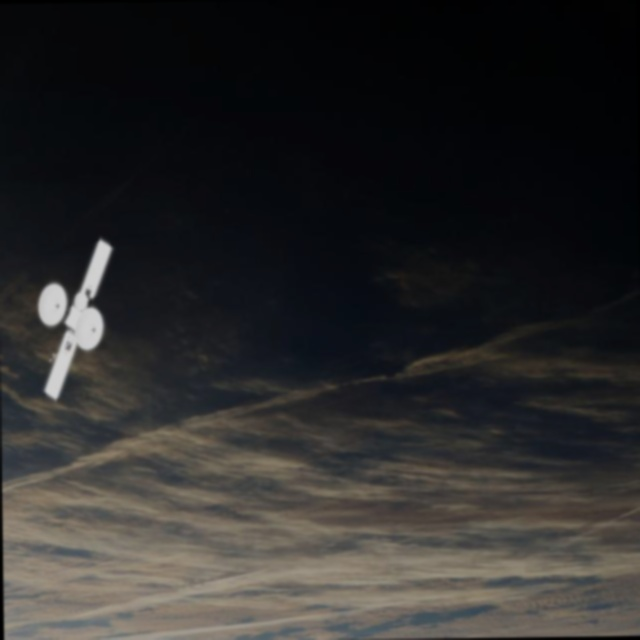medium_debris: (31, 228, 127, 401)
